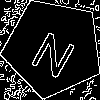N: (28, 23, 83, 80)
